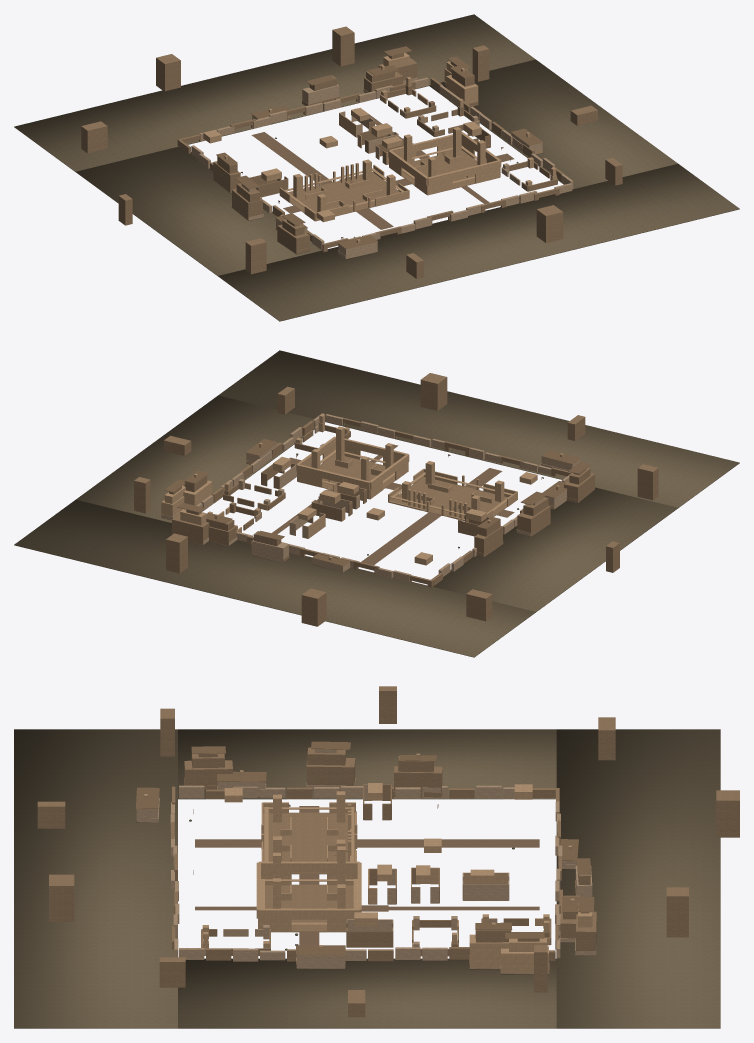
Rendered from kairou-lod2.glb.
The picture shows the model from 3 angles, top to bottom: view 1: azimuth 30°, elevation 25°; view 2: azimuth 150°, elevation 25°; view 3: azimuth 270°, elevation 25°; orthographic projection. The views are drawn at different scales.
Parts seen in each view (by area): view 1: HB_kairou_LOD2_terrain, HB_kairou_LOD2_wall_weathered, HB_kairou_LOD2_wall, HB_kairou_LOD2_LANDMARK_1_wall_warm, HB_kairou_LOD2_wall_warm, HB_kairou_LOD2_LANDMARK_0_wall_warm, HB_kairou_LOD2_trim, HB_kairou_LOD2_LANDMARK_0_wall_weathered, HB_kairou_LOD2_road, HB_kairou_LOD2_LANDMARK_1_wall_weathered; view 2: HB_kairou_LOD2_terrain, HB_kairou_LOD2_wall_weathered, HB_kairou_LOD2_wall, HB_kairou_LOD2_wall_warm, HB_kairou_LOD2_LANDMARK_1_wall_warm, HB_kairou_LOD2_LANDMARK_0_wall_warm, HB_kairou_LOD2_trim, HB_kairou_LOD2_LANDMARK_0_wall_weathered, HB_kairou_LOD2_road, HB_kairou_LOD2_LANDMARK_1_wall_weathered; view 3: HB_kairou_LOD2_terrain, HB_kairou_LOD2_wall_weathered, HB_kairou_LOD2_wall, HB_kairou_LOD2_wall_warm, HB_kairou_LOD2_LANDMARK_1_wall_warm, HB_kairou_LOD2_road, HB_kairou_LOD2_trim, HB_kairou_LOD2_LANDMARK_0_wall_weathered, HB_kairou_LOD2_LANDMARK_0_wall_warm, HB_kairou_LOD2_LANDMARK_1_wall_weathered.
Part boxes in pixels (left/top/right/bottom): HB_kairou_LOD2_terrain: left=14, top=14, right=739, bottom=321; HB_kairou_LOD2_wall_weathered: left=81, top=26, right=622, bottom=278; HB_kairou_LOD2_wall: left=191, top=77, right=573, bottom=258; HB_kairou_LOD2_LANDMARK_1_wall_warm: left=388, top=127, right=501, bottom=195; HB_kairou_LOD2_wall_warm: left=203, top=51, right=556, bottom=249; HB_kairou_LOD2_LANDMARK_0_wall_warm: left=279, top=159, right=409, bottom=221; HB_kairou_LOD2_trim: left=216, top=46, right=543, bottom=248; HB_kairou_LOD2_LANDMARK_0_wall_weathered: left=290, top=173, right=399, bottom=213; HB_kairou_LOD2_road: left=251, top=114, right=513, bottom=229; HB_kairou_LOD2_LANDMARK_1_wall_weathered: left=402, top=150, right=477, bottom=188; HB_kairou_LOD2_terrain: left=14, top=350, right=739, bottom=657; HB_kairou_LOD2_wall_weathered: left=134, top=373, right=658, bottom=626; HB_kairou_LOD2_wall: left=161, top=413, right=580, bottom=582; HB_kairou_LOD2_wall_warm: left=161, top=414, right=589, bottom=566; HB_kairou_LOD2_LANDMARK_1_wall_warm: left=296, top=426, right=409, bottom=499; HB_kairou_LOD2_LANDMARK_0_wall_warm: left=388, top=461, right=517, bottom=521; HB_kairou_LOD2_trim: left=164, top=439, right=590, bottom=565; HB_kairou_LOD2_LANDMARK_0_wall_weathered: left=391, top=477, right=507, bottom=519; HB_kairou_LOD2_road: left=272, top=444, right=514, bottom=564; HB_kairou_LOD2_LANDMARK_1_wall_weathered: left=320, top=454, right=395, bottom=489; HB_kairou_LOD2_terrain: left=14, top=729, right=720, bottom=1028; HB_kairou_LOD2_wall_weathered: left=37, top=686, right=739, bottom=1017; HB_kairou_LOD2_wall: left=136, top=749, right=595, bottom=973; HB_kairou_LOD2_wall_warm: left=136, top=748, right=593, bottom=973; HB_kairou_LOD2_LANDMARK_1_wall_warm: left=256, top=846, right=361, bottom=932; HB_kairou_LOD2_road: left=195, top=806, right=539, bottom=945; HB_kairou_LOD2_trim: left=136, top=741, right=594, bottom=954; HB_kairou_LOD2_LANDMARK_0_wall_weathered: left=263, top=812, right=355, bottom=874; HB_kairou_LOD2_LANDMARK_0_wall_warm: left=261, top=791, right=357, bottom=861; HB_kairou_LOD2_LANDMARK_1_wall_weathered: left=265, top=884, right=353, bottom=932.
Size of the model in its own units: 581 by 39.89 by 575.
8 materials, 8 textured.
